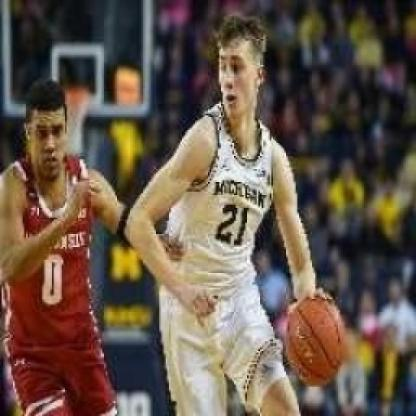basketball: (281, 292, 350, 390)
